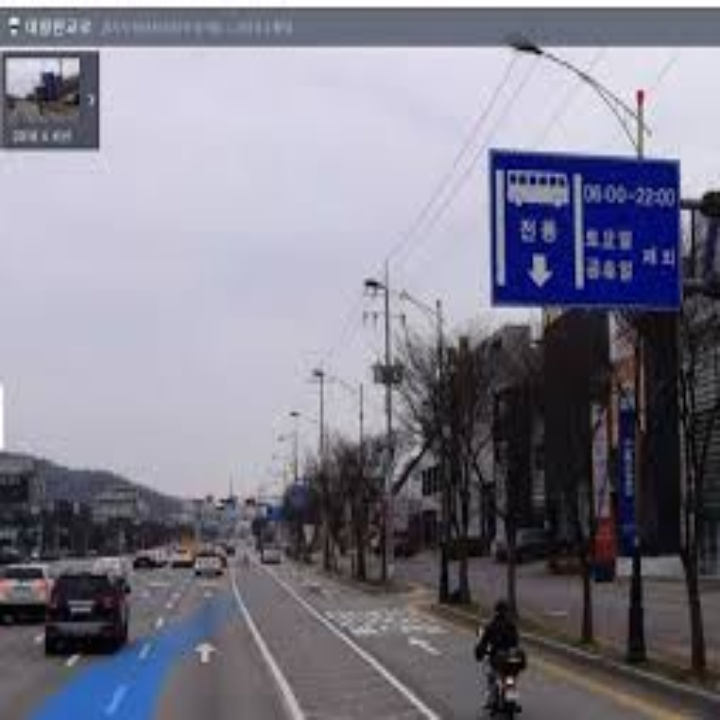bus: (504, 164, 573, 213)
